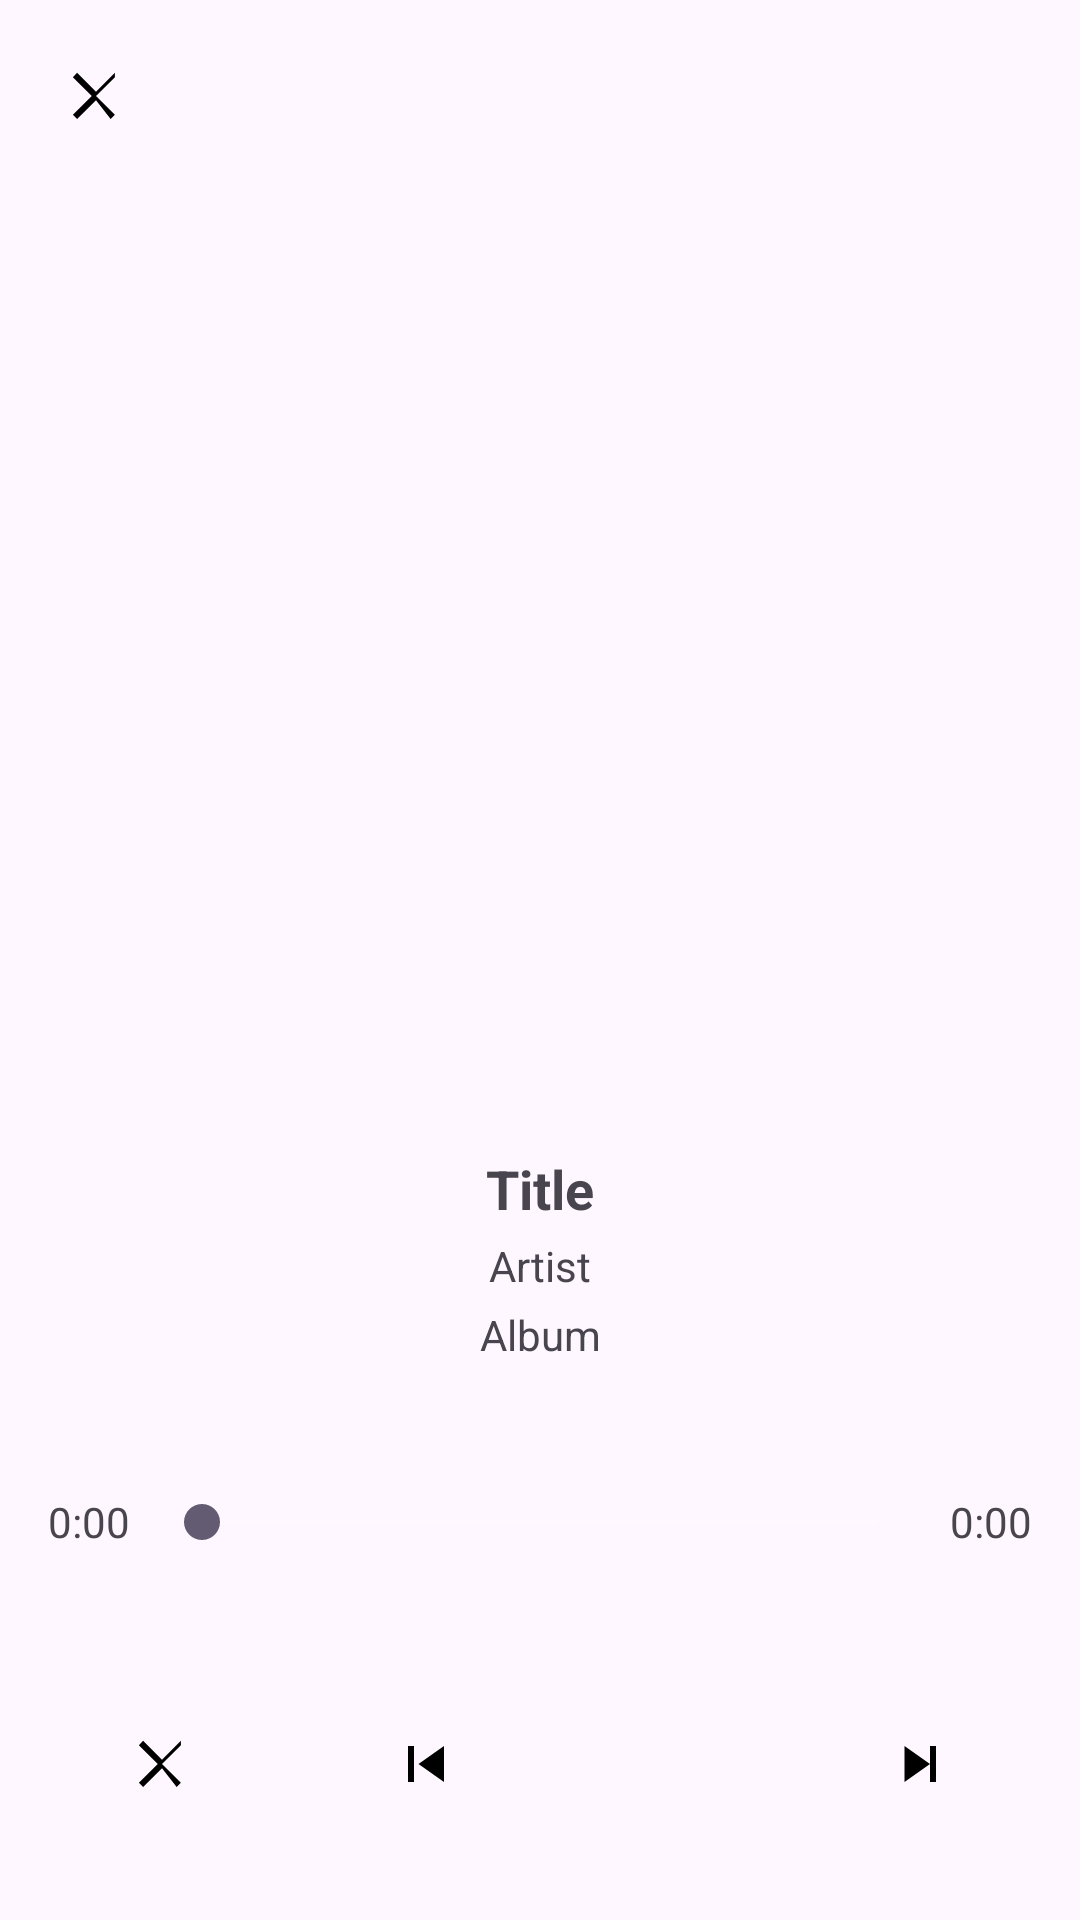

Icon click points for this 1080px×1920px phone screenshot, format point (x, y):
close: point (94, 96), point (160, 1764)
skip next: point (920, 1764)
skip previous: point (426, 1764)
